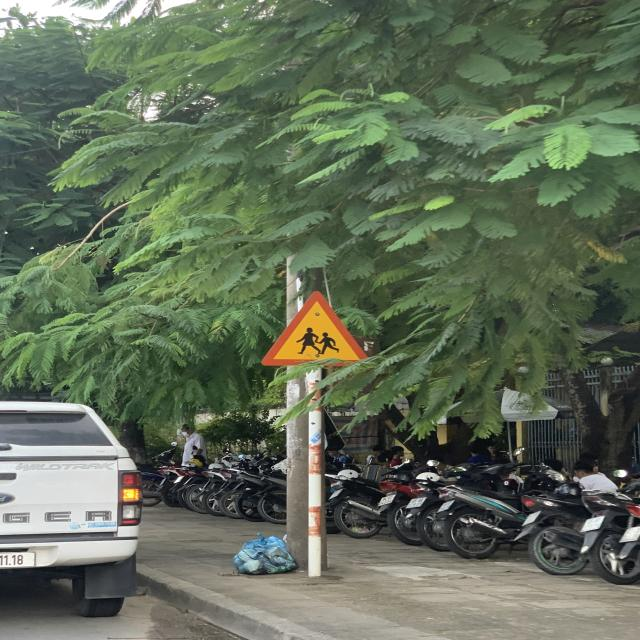Vong_Xuyen: (264, 289, 368, 366)
